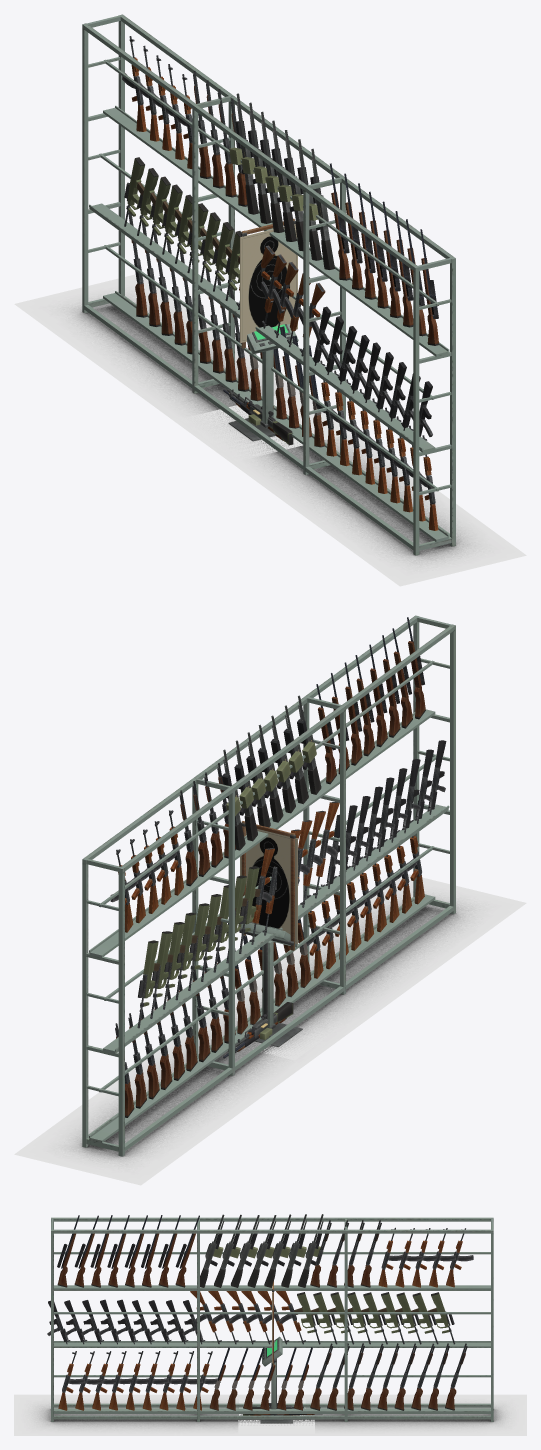
Rendered from armory.glb.
The picture shows the model from 3 angles, top to bottom: view 1: azimuth 30°, elevation 25°; view 2: azimuth 150°, elevation 25°; view 3: azimuth 270°, elevation 25°; orthographic projection. The views are drawn at different scales.
Parts seen in each view (by area): view 1: Rack, Rack_Shadow, Target, Target_Shadow, Terminal, Gun_lmg; view 2: Rack, Rack_Shadow, Target, Terminal, Terminal_Shadow, Gun_lmg; view 3: Rack, Rack_Shadow, Target_Shadow, Terminal, Target.
Boxes of the visible parts, bbox=[...] form: Rack: bbox=[82, 14, 455, 555]; Rack_Shadow: bbox=[14, 274, 526, 586]; Target: bbox=[228, 218, 297, 441]; Target_Shadow: bbox=[179, 392, 351, 461]; Terminal: bbox=[239, 324, 298, 436]; Gun_lmg: bbox=[227, 389, 292, 442]; Rack: bbox=[82, 615, 455, 1156]; Rack_Shadow: bbox=[14, 874, 526, 1185]; Target: bbox=[239, 821, 302, 1047]; Terminal: bbox=[240, 922, 298, 1037]; Terminal_Shadow: bbox=[207, 1004, 343, 1060]; Gun_lmg: bbox=[227, 1002, 292, 1052]; Rack: bbox=[47, 1214, 493, 1421]; Rack_Shadow: bbox=[14, 1394, 526, 1435]; Target_Shadow: bbox=[238, 1419, 314, 1433]; Terminal: bbox=[261, 1336, 283, 1420]; Target: bbox=[260, 1281, 292, 1423].
Size of the model in its own units: 1.32 by 3.21 by 6.95.
8 materials, 7 textured.
